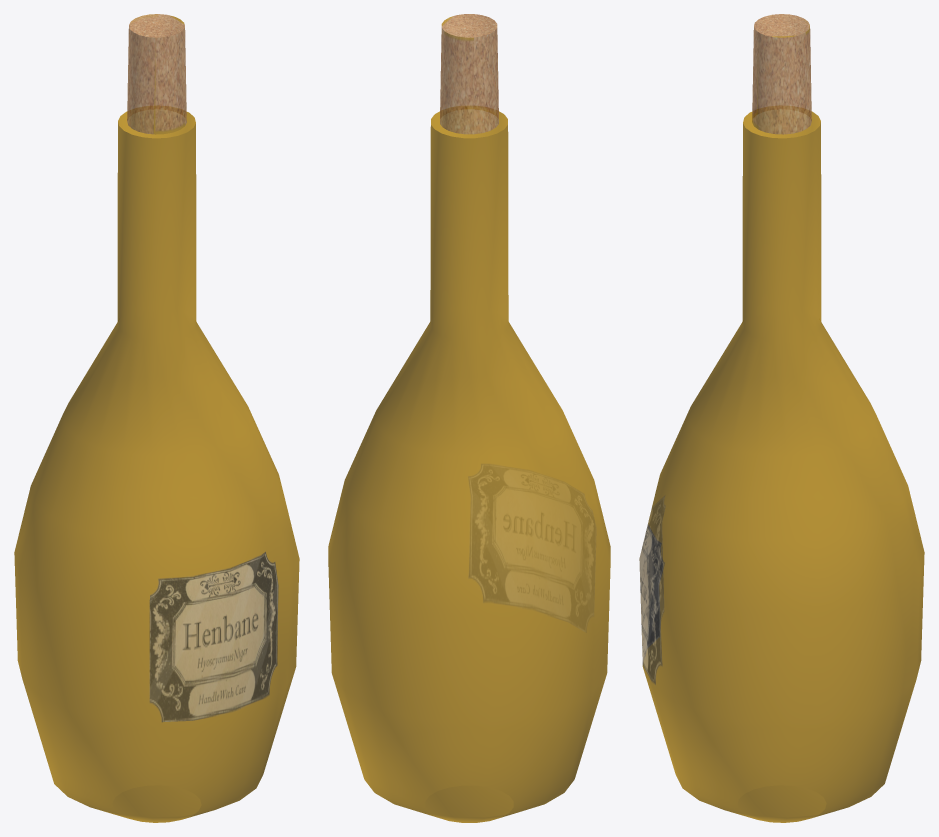
The model's file is Potion Bottle Yellow.fbx.
3 renders of one model, left to right at view 1: azimuth 30°, elevation 25°; view 2: azimuth 150°, elevation 25°; view 3: azimuth 270°, elevation 25°, orthographic.
Visible parts, largest first — view 1: pasted__pasted__pCylinder9; view 2: pasted__pasted__pCylinder9; view 3: pasted__pasted__pCylinder9.
Boxes of the visible parts, x1,y1,x2,y2 form: pasted__pasted__pCylinder9: [14, 14, 299, 822]; pasted__pasted__pCylinder9: [328, 14, 610, 822]; pasted__pasted__pCylinder9: [639, 14, 924, 822].
Bounding box in the file's own units: 0.4815 × 1.45 × 0.4815.
1 material, 1 textured.
